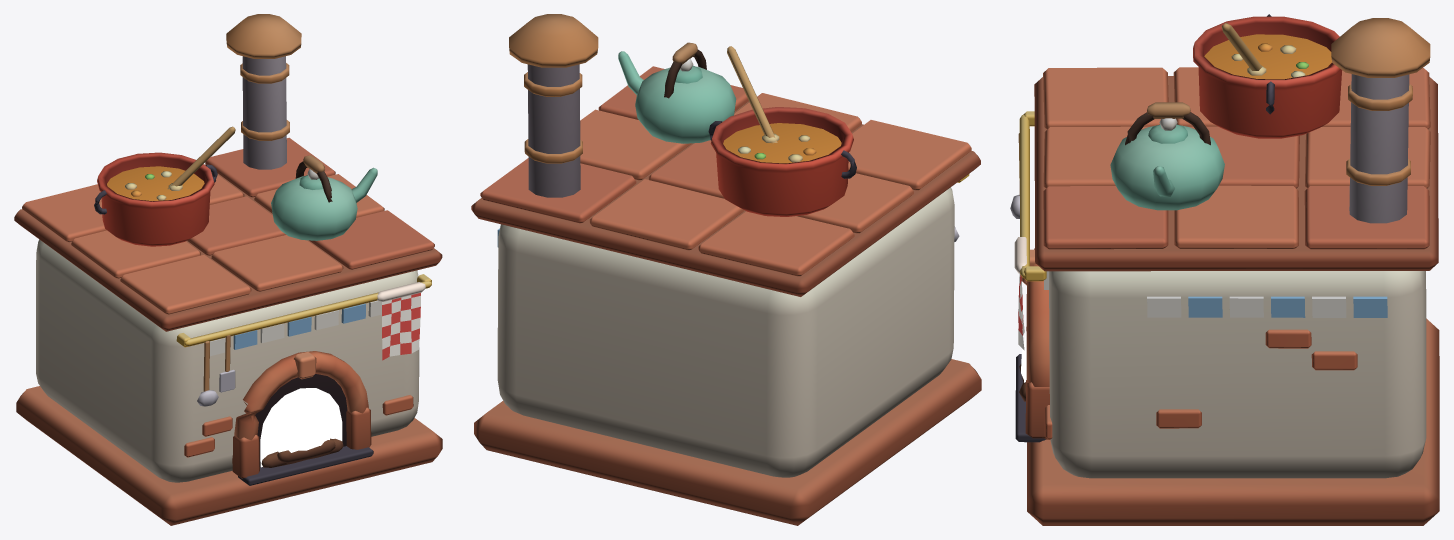
File: furn-kitchenStove.glb
3 views of the same model, side by side, from view 1: azimuth 30°, elevation 25°; view 2: azimuth 150°, elevation 25°; view 3: azimuth 270°, elevation 25° (orthographic). The views are drawn at different scales.
Visible parts, largest first — view 1: body, hot, cloth; view 2: body; view 3: body, cloth.
Part boxes in pixels (<box>): body: <box>14,14,442,525</box>; hot: <box>260,388,342,467</box>; cloth: <box>377,282,425,360</box>; body: <box>471,14,981,525</box>; body: <box>1010,14,1439,525</box>; cloth: <box>1014,237,1026,350</box>.
Bounding box in the file's own units: 0.9411 × 1.14 × 0.9365.
